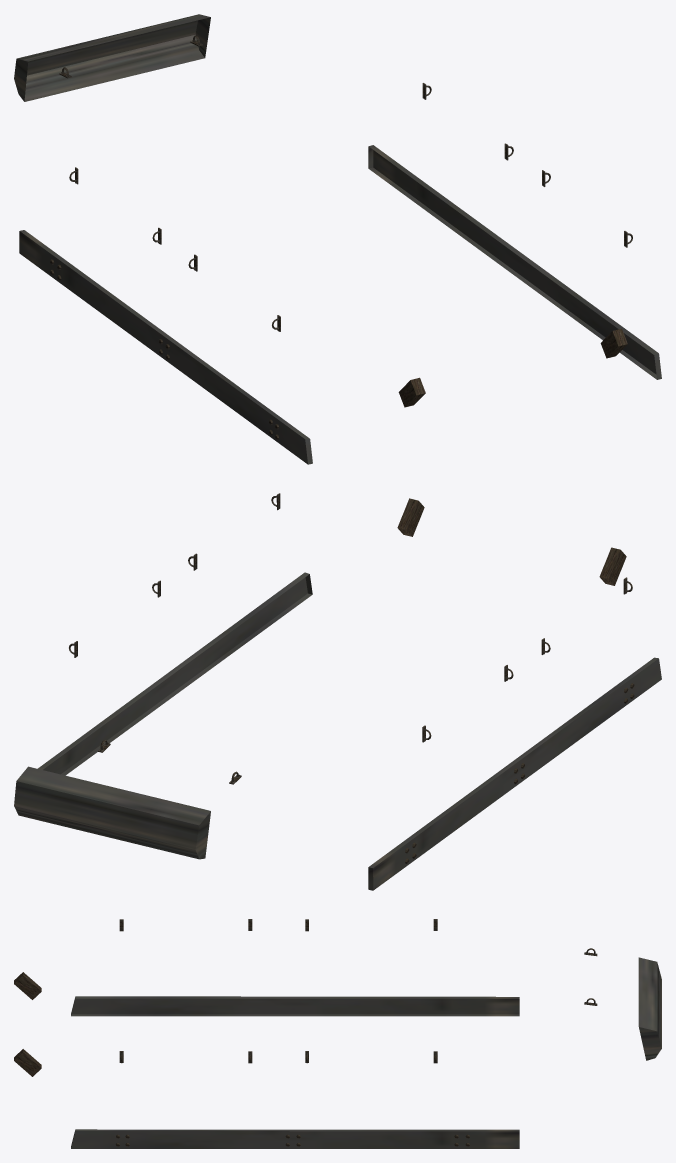
The model's file is sherman_hull_m10.obj.
3 views of the same model, one above another, from view 1: azimuth 30°, elevation 25°; view 2: azimuth 150°, elevation 25°; view 3: azimuth 270°, elevation 25° (orthographic). The views are drawn at different scales.
Visible parts, largest first — view 1: sherman_hull_m10; view 2: sherman_hull_m10; view 3: sherman_hull_m10.
Boxes of the visible parts, bbox=[...] form: sherman_hull_m10: bbox=[14, 14, 661, 464]; sherman_hull_m10: bbox=[14, 493, 661, 890]; sherman_hull_m10: bbox=[14, 919, 661, 1148].
Bounding box in the file's own units: 2.85 × 0.9782 × 5.67.
Materials: 1 (1 with a texture image).
